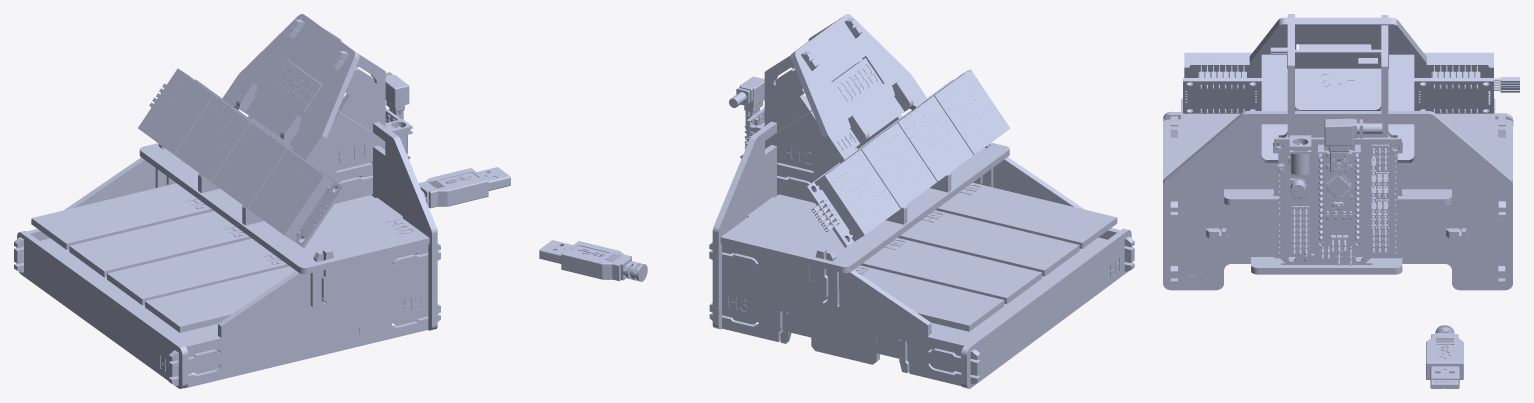
Rendered from pmg-guide.glb.
The picture shows the model from 3 angles, left to right: view 1: azimuth 30°, elevation 25°; view 2: azimuth 150°, elevation 25°; view 3: azimuth 270°, elevation 25°; orthographic projection. The views are drawn at different scales.
Visible parts, largest first — view 1: NAUO65, NAUO64, NAUO74, NAUO63, NAUO62, NAUO72, NAUO71, NAUO70, NAUO73, NAUO69, NAUO375, NAUO360 (+11 smaller); view 2: NAUO66, NAUO64, NAUO74, NAUO63, NAUO77, NAUO70, NAUO71, NAUO69, NAUO73, NAUO72, NAUO360, NAUO374 (+9 smaller); view 3: NAUO73, NAUO75, NAUO297, NAUO64, NAUO358, NAUO74, NANO, NAUO67, NAUO79, NAUO283, NAUO360, NAUO375 (+13 smaller).
Part boxes in pixels (x1,y1,x2,y2): NAUO65: (168,243,440,388); NAUO64: (139,143,429,274); NAUO74: (222,14,359,163); NAUO63: (17,231,188,388); NAUO62: (242,51,385,225); NAUO72: (31,183,213,249); NAUO71: (69,211,251,277); NAUO70: (107,238,289,305); NAUO73: (343,97,437,330); NAUO69: (145,266,295,332); NAUO375: (248,149,334,241); NAUO360: (138,68,223,154); NAUO66: (709,242,980,386); NAUO64: (720,142,1009,273); NAUO74: (790,14,927,162); NAUO63: (961,228,1131,388); NAUO77: (764,51,907,224); NAUO70: (898,210,1079,276); NAUO71: (860,237,1041,303); NAUO69: (935,182,1117,248); NAUO73: (712,96,807,329); NAUO72: (854,265,1004,331); NAUO360: (814,149,900,241); NAUO374: (889,96,973,181); NAUO73: (1163,111,1512,290); NAUO75: (1261,54,1414,162); NAUO297: (1274,137,1401,263); NAUO64: (1163,119,1512,205); NAUO358: (1183,78,1493,113); NAUO74: (1249,17,1426,77); NANO: (1317,150,1360,252); NAUO67: (1219,229,1461,274); NAUO79: (1287,44,1381,68); NAUO283: (1426,325,1463,388); NAUO360: (1424,52,1493,77); NAUO375: (1184,52,1252,77).
Bounding box in the file's own units: 0.2349 × 0.1189 × 0.1486.
